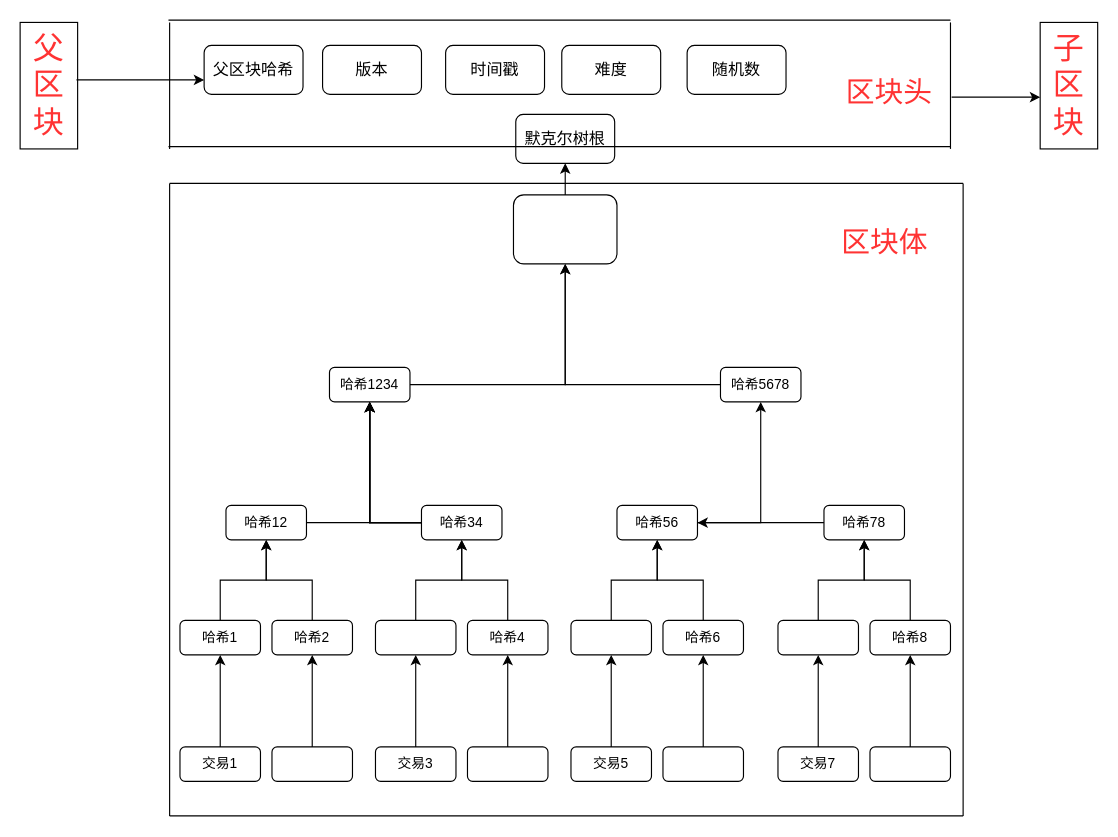
This 1118x837 diagram has some shape labels left out. The shapes that lost their labels are listed below. From the top down, each one's centre as x and y in pixels, then its label:
(x=564, y=229): 哈希1-8
(x=415, y=637): 哈希3
(x=610, y=637): 哈希5
(x=817, y=637): 哈希7
(x=311, y=763): 交易2
(x=507, y=763): 交易4
(x=702, y=763): 交易6
(x=909, y=763): 交易8
